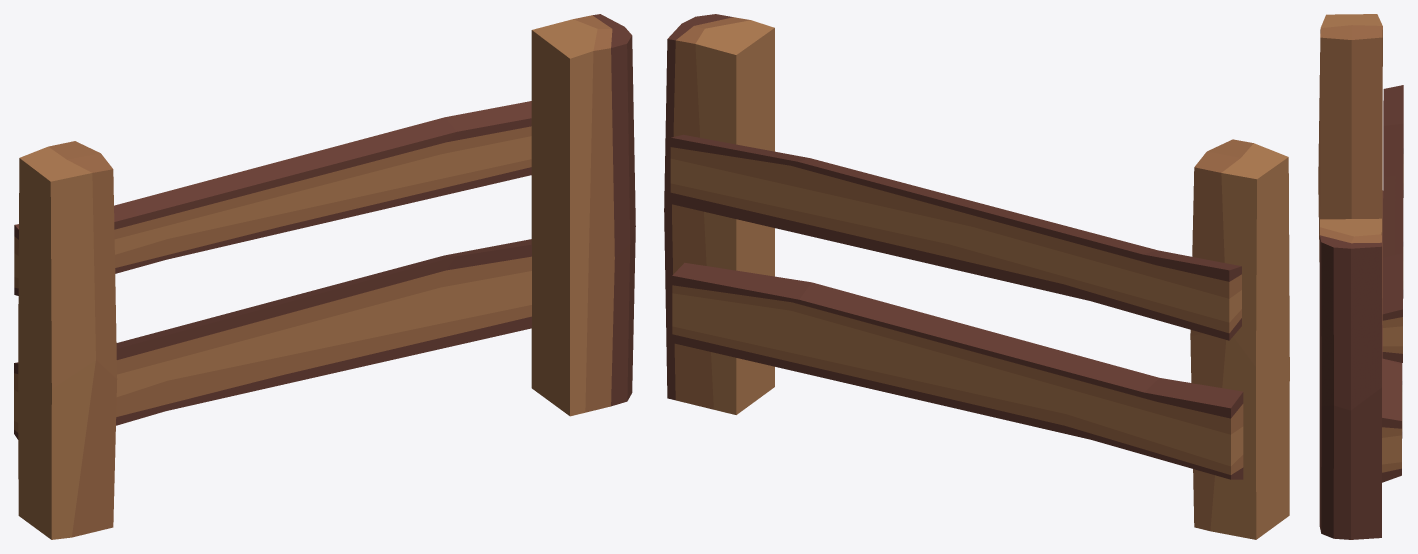
The model's file is fence_plank_whole.fbx.
The picture shows the model from 3 angles, left to right: view 1: azimuth 30°, elevation 25°; view 2: azimuth 150°, elevation 25°; view 3: azimuth 270°, elevation 25°; orthographic projection. The views are drawn at different scales.
Parts seen in each view (by area): view 1: fence_plank_whole; view 2: fence_plank_whole; view 3: fence_plank_whole.
Part boxes in pixels (x1,y1,x2,y2): fence_plank_whole: (14,14,635,539); fence_plank_whole: (664,14,1289,539); fence_plank_whole: (1318,14,1403,539).
Bounding box in the file's own units: 120 × 69.46 × 18.33.
